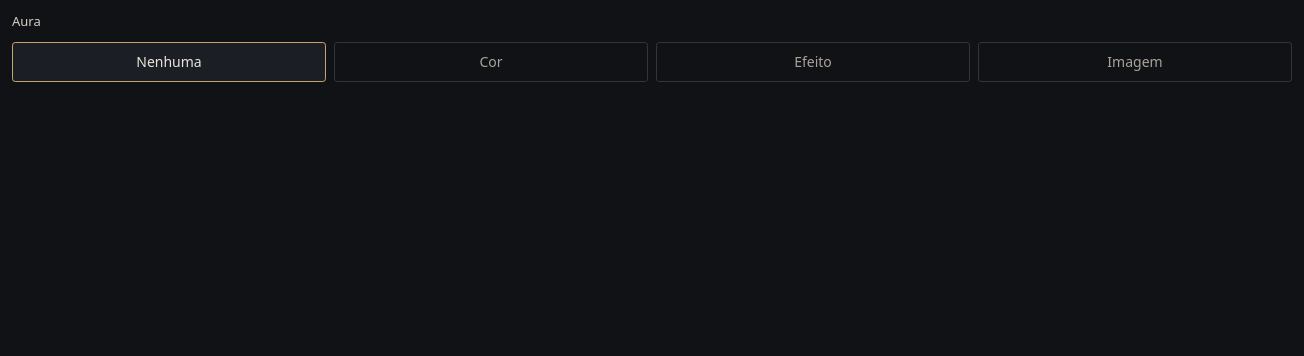
Scenario: AuraEditor › Cor shows the eight tiles of the palette and no "Natural"
Click the radio button labelled "Cor" at (491, 62), box [334, 42, 648, 82]
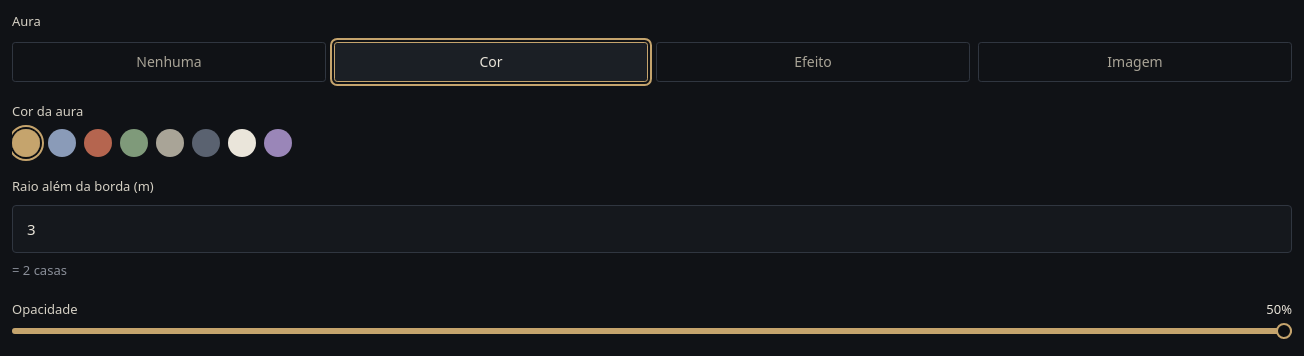
Expected: the radio button named "Ouro" is checked, [12, 129, 40, 157]
